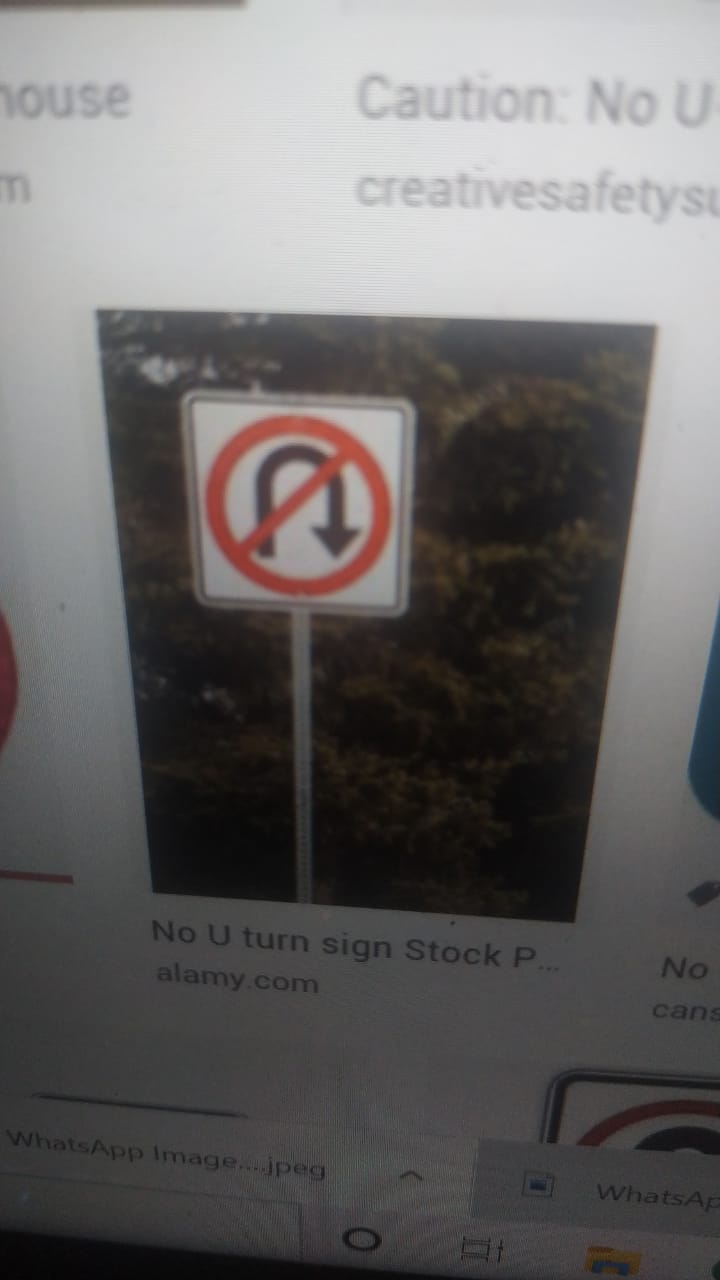NO U-TURN: (175, 375, 441, 637)
